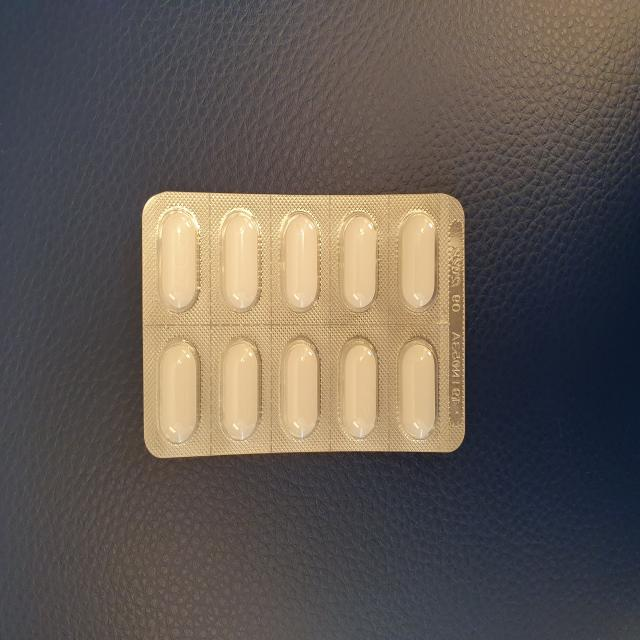Pill: (273, 329, 328, 448), (152, 330, 205, 450), (149, 207, 205, 316), (336, 326, 385, 446), (276, 201, 325, 320), (215, 202, 265, 318), (335, 202, 383, 319), (395, 338, 445, 448), (216, 332, 265, 444), (394, 206, 442, 318)
